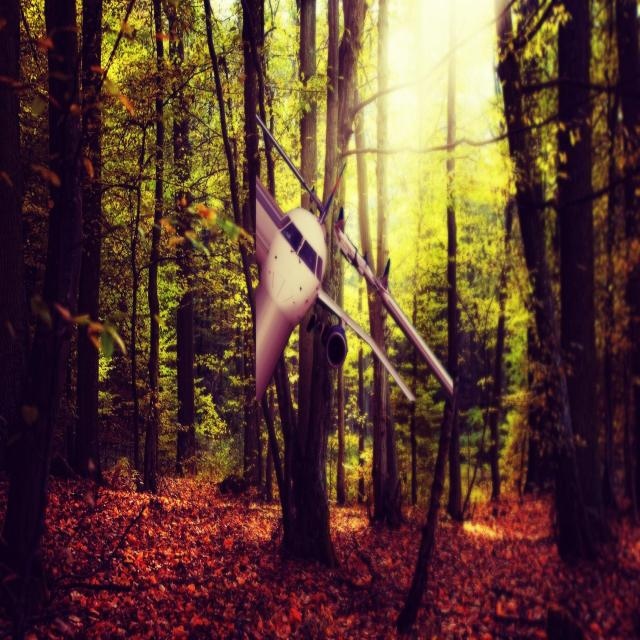airplane: (255, 118, 454, 403)
